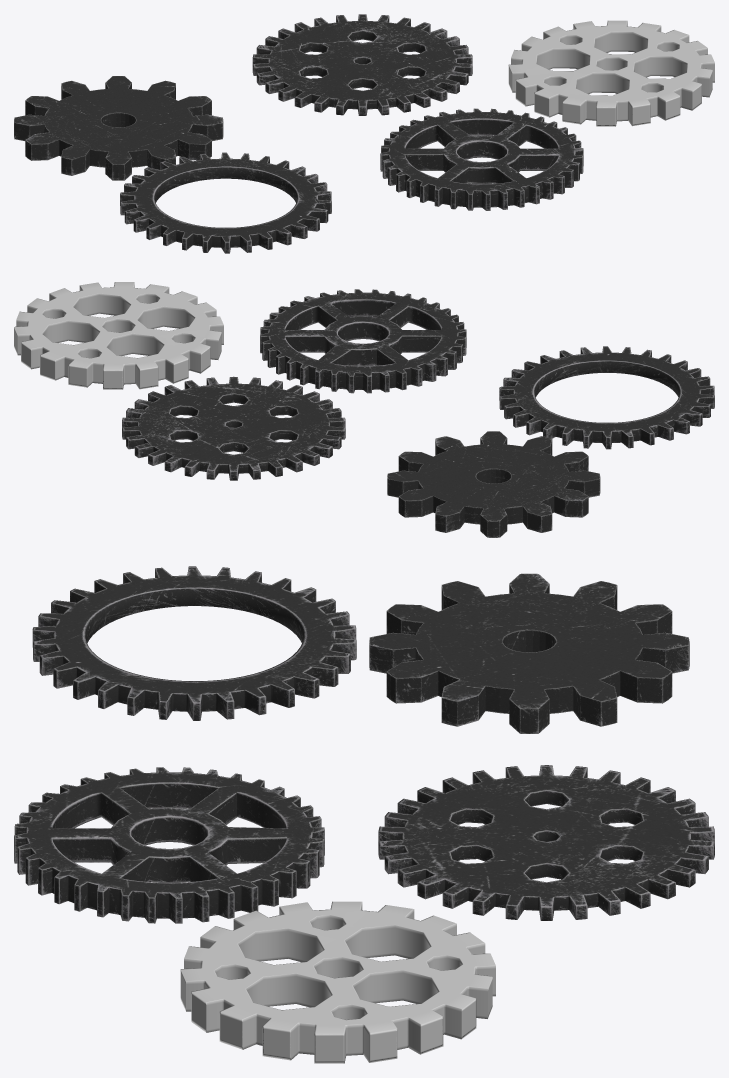
3 renders of one model, top to bottom at view 1: azimuth 30°, elevation 25°; view 2: azimuth 150°, elevation 25°; view 3: azimuth 270°, elevation 25°, orthographic. The views are drawn at different scales.
Parts seen in each view (by area): view 1: gear1, gear4, gear7, gear5, gear2; view 2: gear1, gear4, gear7, gear5, gear2; view 3: gear1, gear4, gear7, gear5, gear2.
Part boxes in pixels (x1,y1,x2,y2): gear1: [508, 20, 714, 126]; gear4: [252, 14, 472, 115]; gear7: [380, 108, 583, 210]; gear5: [14, 76, 223, 180]; gear2: [120, 152, 331, 253]; gear1: [14, 282, 223, 389]; gear4: [122, 376, 345, 480]; gear7: [260, 289, 466, 393]; gear5: [387, 431, 600, 537]; gear2: [499, 346, 714, 449]; gear1: [180, 901, 495, 1063]; gear4: [378, 765, 714, 920]; gear7: [14, 767, 324, 923]; gear5: [369, 573, 689, 733]; gear2: [32, 566, 356, 720].
Bounding box in the file's own units: 2 × 0.081 × 1.29.
